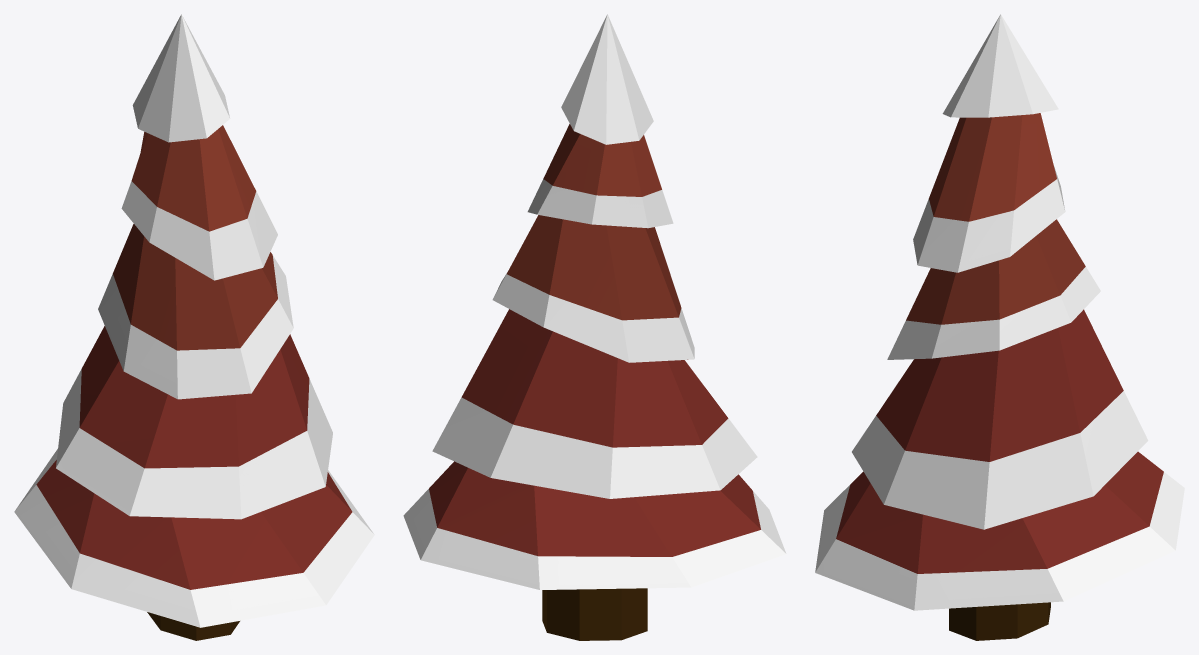
The model's file is red_tree_snow.glb.
The picture shows the model from 3 angles, left to right: view 1: azimuth 30°, elevation 25°; view 2: azimuth 150°, elevation 25°; view 3: azimuth 270°, elevation 25°; orthographic projection. The views are drawn at different scales.
Parts seen in each view (by area): view 1: Tree04_White1_0, Tree04_Red_Tree05_0, Tree04_Red_Tree06_0, Tree04_Red_Tree04_0, Tree04_Brown06_0; view 2: Tree04_White1_0, Tree04_Red_Tree05_0, Tree04_Red_Tree06_0, Tree04_Red_Tree04_0, Tree04_Brown06_0; view 3: Tree04_White1_0, Tree04_Red_Tree05_0, Tree04_Red_Tree04_0, Tree04_Red_Tree06_0, Tree04_Brown06_0.
Part boxes in pixels (x1=…): Tree04_White1_0: x1=14, y1=14, x2=374, y2=627; Tree04_Red_Tree05_0: x1=36, y1=326, x2=352, y2=589; Tree04_Red_Tree06_0: x1=113, y1=224, x2=277, y2=350; Tree04_Red_Tree04_0: x1=131, y1=125, x2=256, y2=231; Tree04_Brown06_0: x1=147, y1=612, x2=239, y2=640; Tree04_White1_0: x1=403, y1=14, x2=786, y2=589; Tree04_Red_Tree05_0: x1=429, y1=309, x2=760, y2=556; Tree04_Red_Tree06_0: x1=507, y1=215, x2=681, y2=320; Tree04_Red_Tree04_0: x1=543, y1=124, x2=661, y2=196; Tree04_Brown06_0: x1=542, y1=588, x2=647, y2=640; Tree04_White1_0: x1=815, y1=14, x2=1184, y2=610; Tree04_Red_Tree05_0: x1=836, y1=309, x2=1163, y2=573; Tree04_Red_Tree04_0: x1=929, y1=113, x2=1056, y2=221; Tree04_Red_Tree06_0: x1=906, y1=219, x2=1085, y2=324; Tree04_Brown06_0: x1=949, y1=602, x2=1050, y2=640.
Size of the model in its own units: 4.46 by 8.34 by 4.62.
